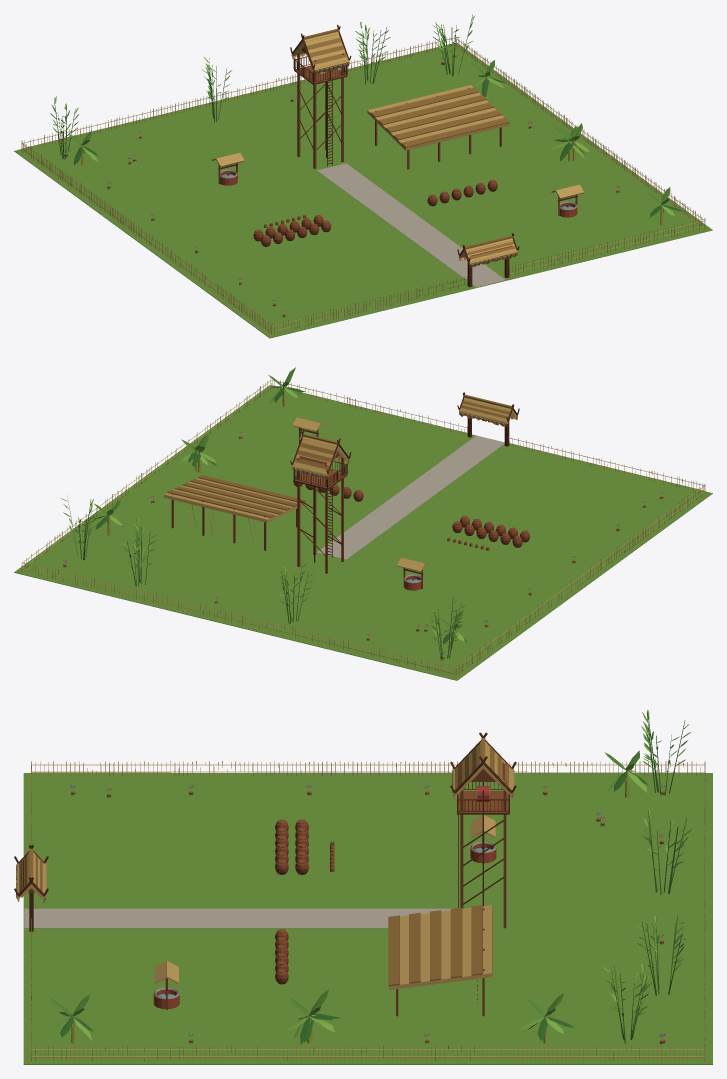
Rendered from fire.glb.
The picture shows the model from 3 angles, top to bottom: view 1: azimuth 30°, elevation 25°; view 2: azimuth 150°, elevation 25°; view 3: azimuth 270°, elevation 25°; orthographic projection. The views are drawn at different scales.
Parts seen in each view (by area): view 1: body; view 2: body; view 3: body.
Part boxes in pixels (x1,y1,x2,y2): body: (14,14,712,338); body: (14,367,712,680); body: (14,709,712,1064).
Size of the model in its own units: 47.9 by 13.64 by 48.56.
